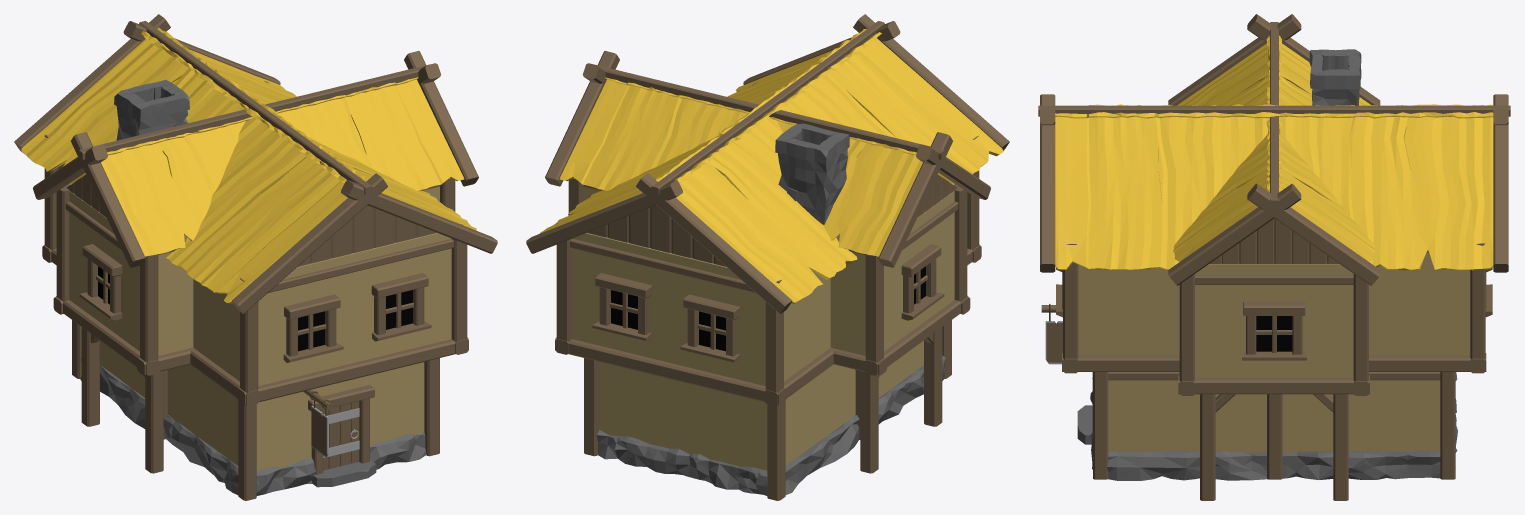
The model's file is Tavern.fbx.
3 renders of one model, left to right at view 1: azimuth 30°, elevation 25°; view 2: azimuth 150°, elevation 25°; view 3: azimuth 270°, elevation 25°, orthographic. The views are drawn at different scales.
Visible parts, largest first — view 1: Tavern; view 2: Tavern; view 3: Tavern.
Part boxes in pixels (<box>): Tavern: <box>14,14,497,500</box>; Tavern: <box>526,14,1009,500</box>; Tavern: <box>1038,14,1510,500</box>.
Size of the model in its own units: 9.94 by 8.58 by 11.1.
